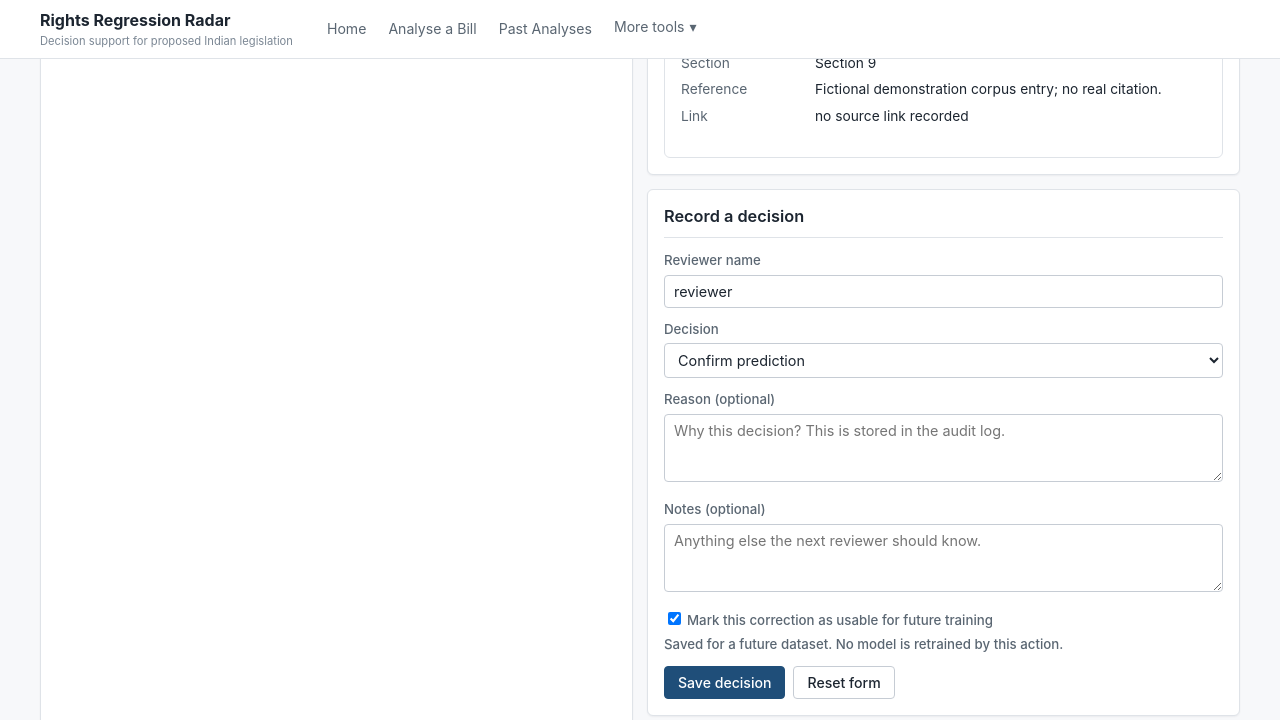
Test: review center › requires a reason before a relabel can be saved
(page scrolled)
Expected: the button "Save decision" is shown, [664,666,786,699]
Step 1. Select "Change label" in the dropdown labelled "Decision" → (944,361), box [664,343,1223,378]
(page scrolled)
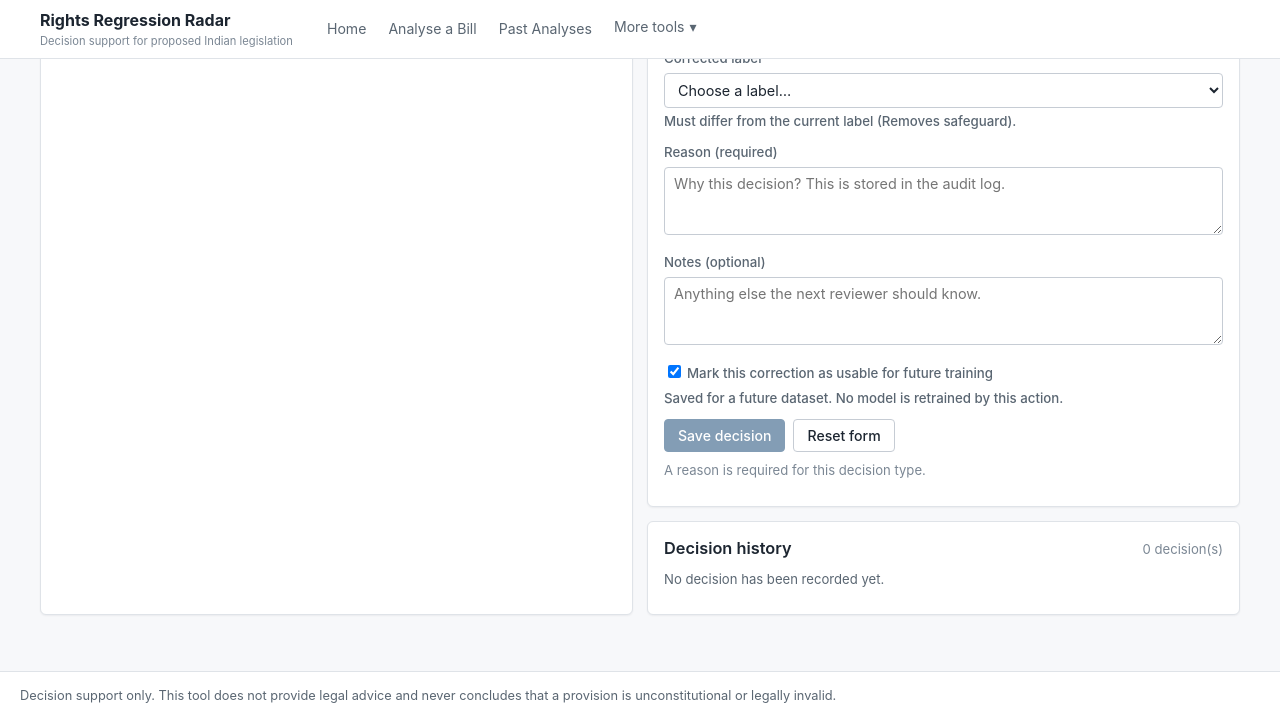
Expected: the button "Save decision" is disabled, [664,419,786,452]
Expected: the text "A reason is required for this decision type." is shown, [664,462,926,478]
